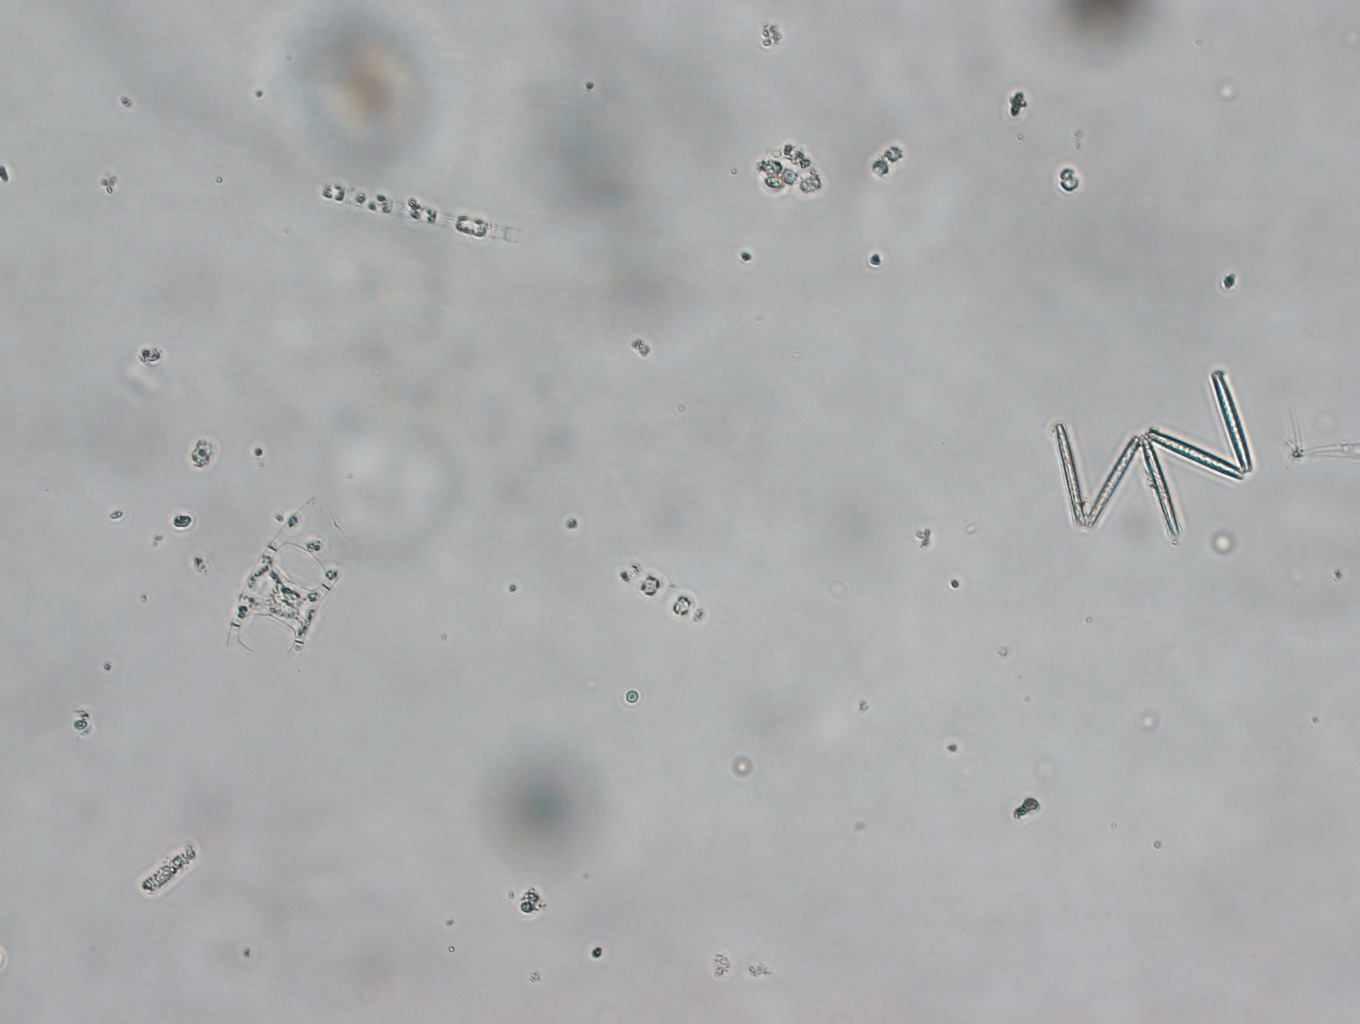thalassionema nitzschioides: (1040, 358, 1272, 544)
